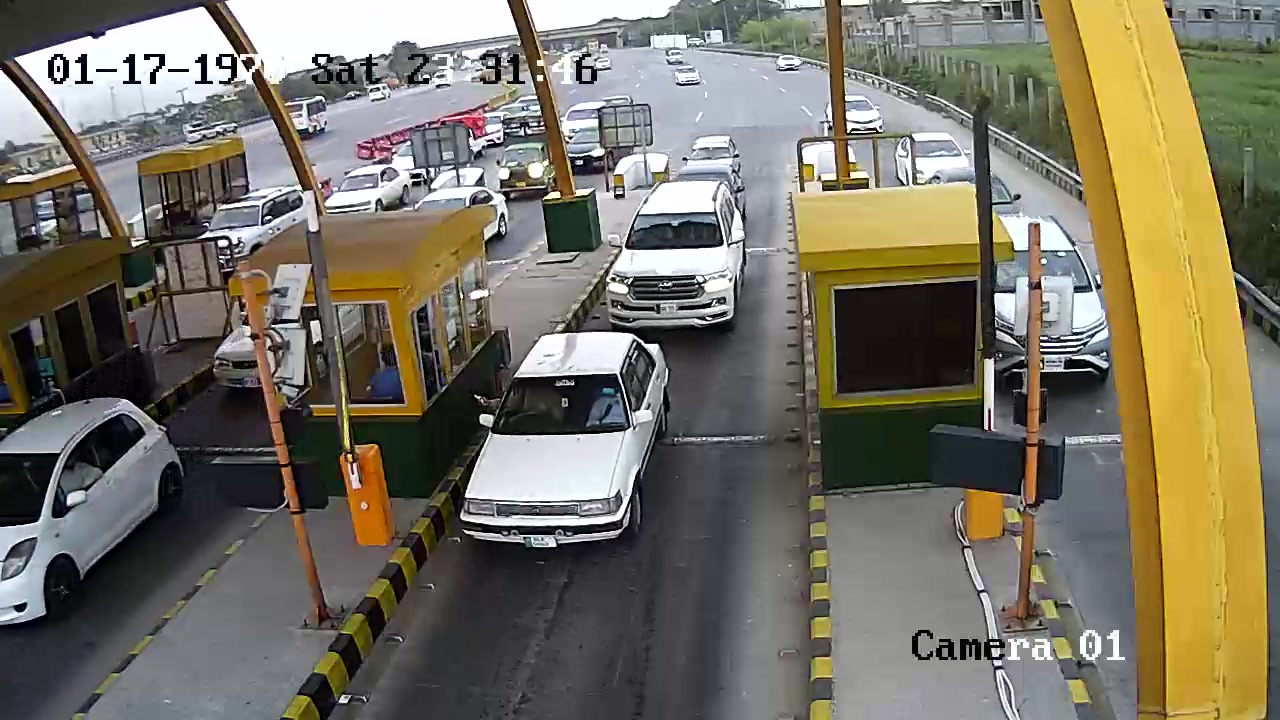F1: (460, 336, 681, 556), (589, 179, 771, 325)
